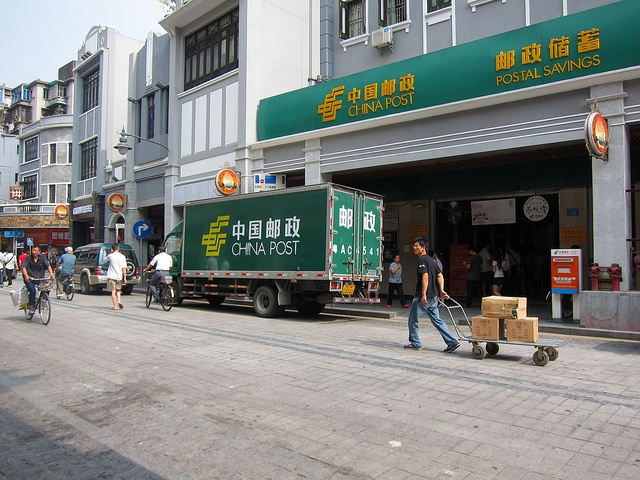non-vehicle: (17, 275, 53, 325), (145, 278, 173, 312), (54, 270, 74, 300)
